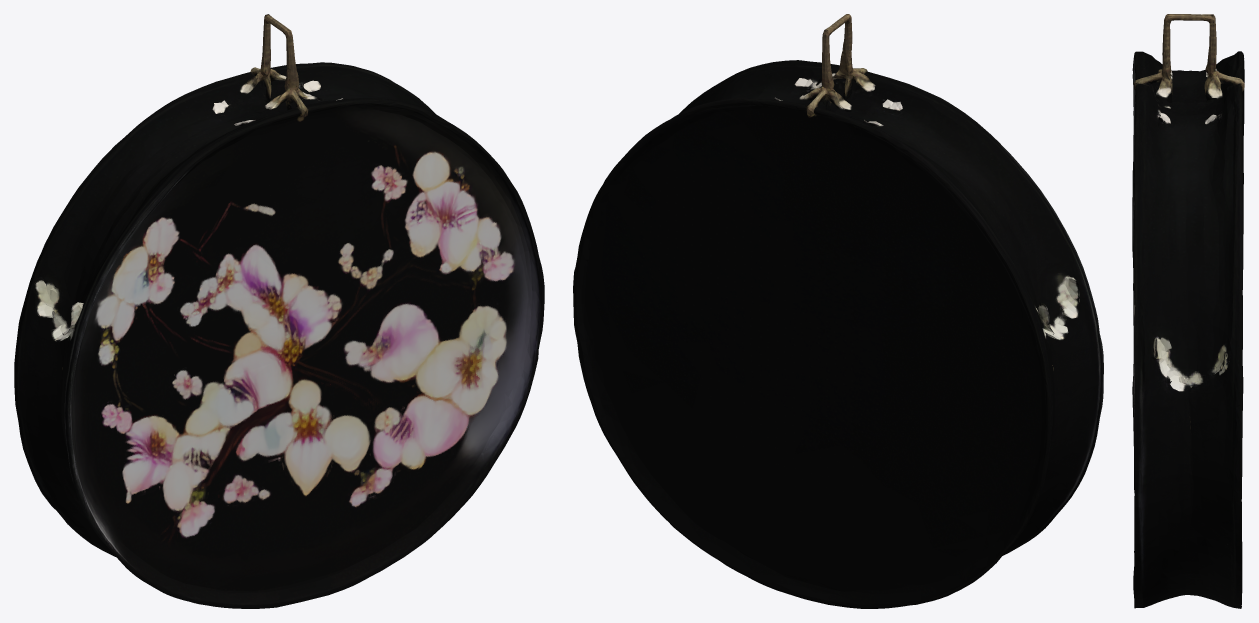
The model's file is ceramic-hanging-wall-plate-japanese.jpeg.glb.
3 renders of one model, left to right at view 1: azimuth 30°, elevation 25°; view 2: azimuth 150°, elevation 25°; view 3: azimuth 270°, elevation 25°, orthographic.
Parts seen in each view (by area): view 1: world; view 2: world; view 3: world.
Part boxes in pixels (<box>): world: <box>14,14,544,608</box>; world: <box>573,14,1103,608</box>; world: <box>1132,14,1244,608</box>.
Size of the model in its own units: 0.8932 by 1 by 0.1801.
Materials: 1 (1 with a texture image).
